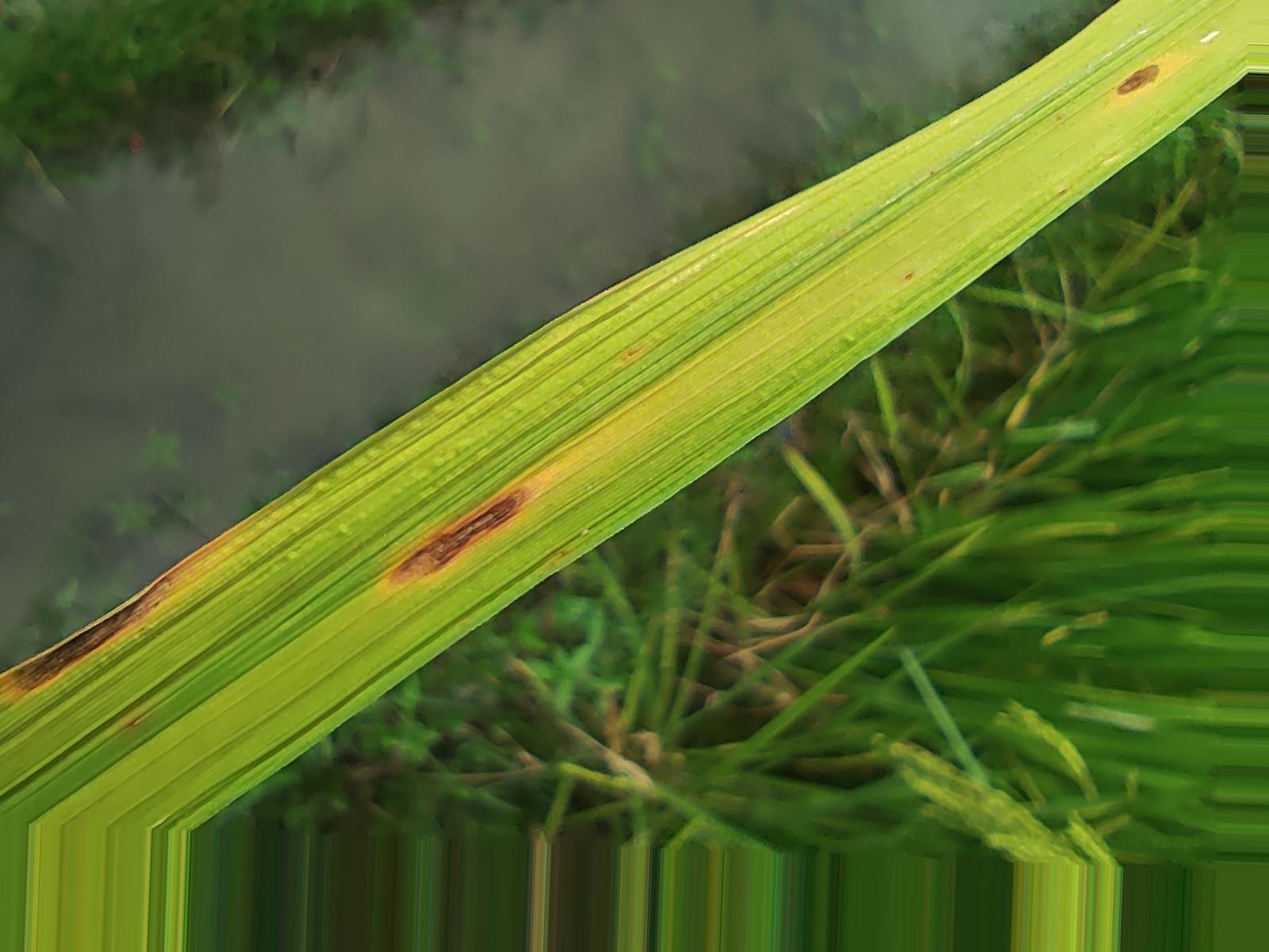LEAF: (0, 0, 1243, 831)
NBS: (4, 570, 176, 696), (384, 486, 533, 585), (1117, 63, 1161, 95), (125, 717, 141, 731), (627, 347, 641, 357), (902, 273, 916, 282), (1059, 189, 1067, 195), (930, 171, 934, 177)
